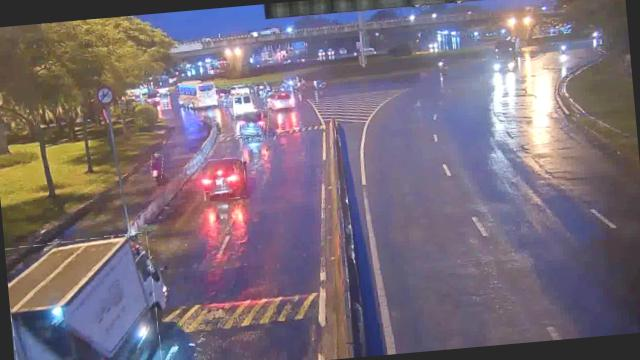Bike: (148, 153, 164, 179)
Car: (201, 156, 246, 200), (232, 107, 270, 139), (263, 88, 295, 110)
Truck: (5, 232, 161, 360)
